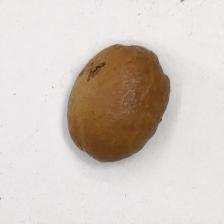NG: (76, 53, 110, 84)
